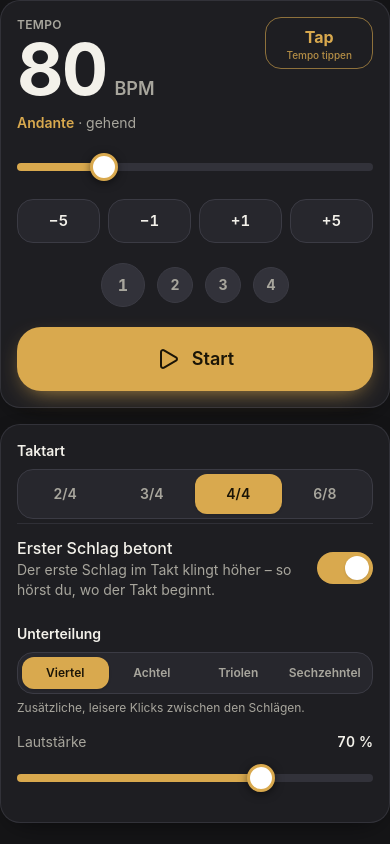
MetronomeWidget › Tap-Tempo mittelt die letzten Tipps (4 Tipps im Abstand von 500 ms → 120 BPM)
Step 1. Click the button "Tap Tempo tippen" → (319, 43), box [265,17,373,69]
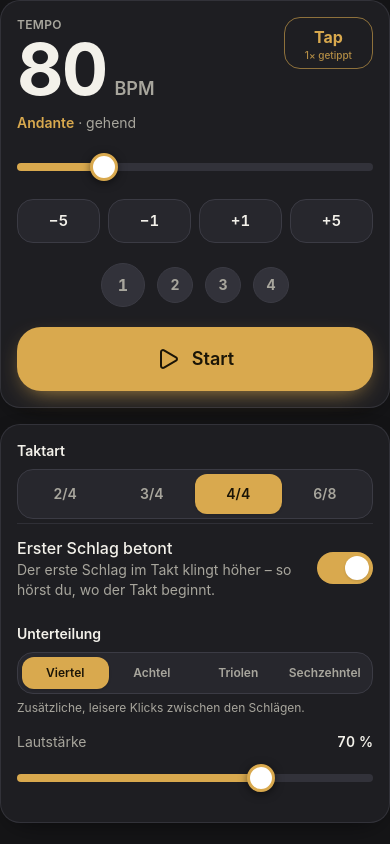
Step 2. Click the button with aria-label "Tempo tippen" → (328, 43), box [284,17,373,69]
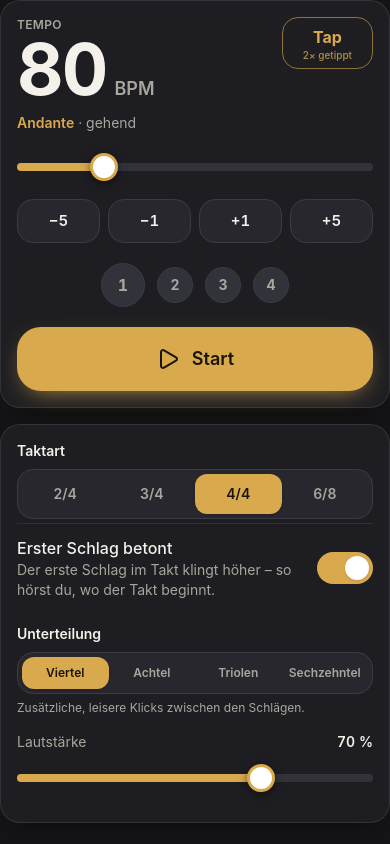
Step 3. Click the button with aria-label "Tempo tippen" → (327, 43), box [282,17,373,69]
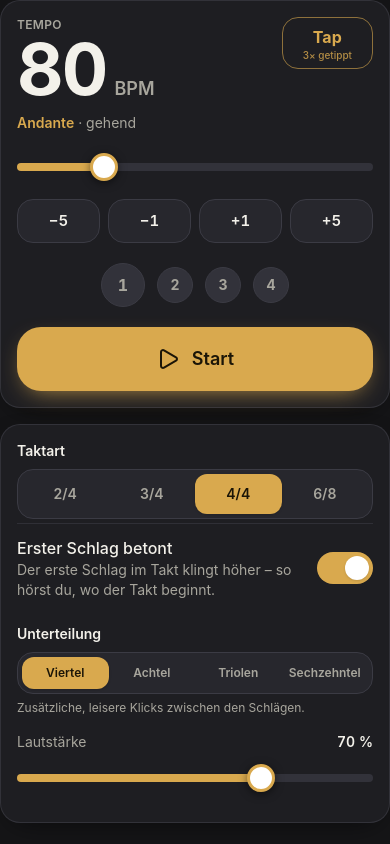
Step 4. Click the button with aria-label "Tempo tippen" → (327, 43), box [282,17,373,69]
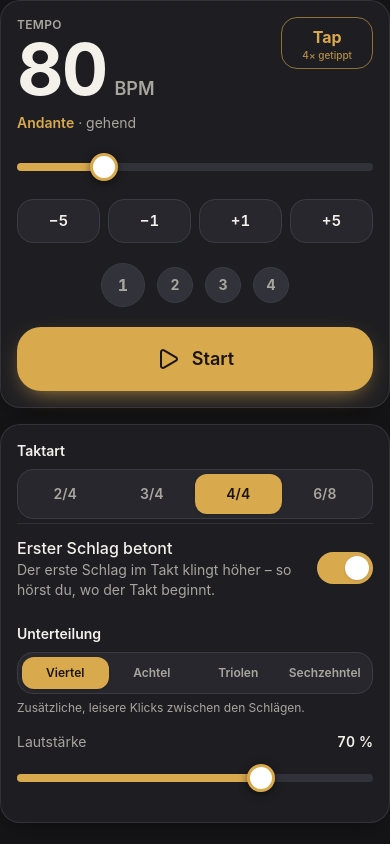
Expected: the text "4× getippt" is shown, [302,49,352,61]
